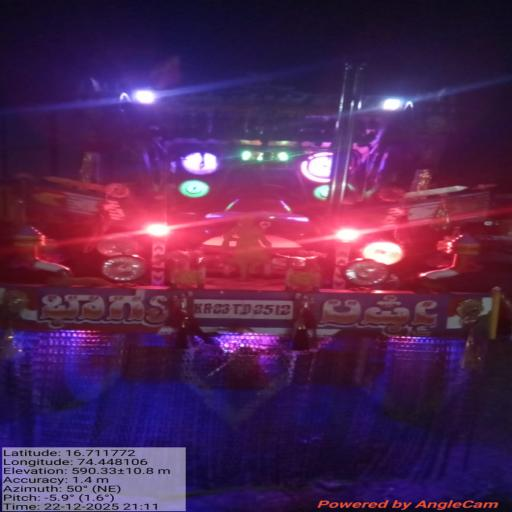number_plate: (184, 291, 306, 325)
